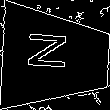N_E: (32, 37, 80, 79)
